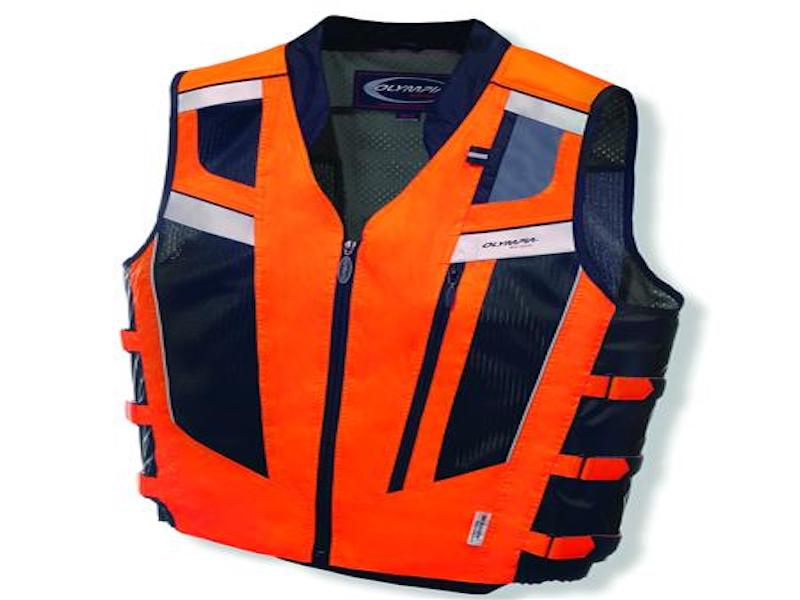vest: (172, 55, 626, 575)
